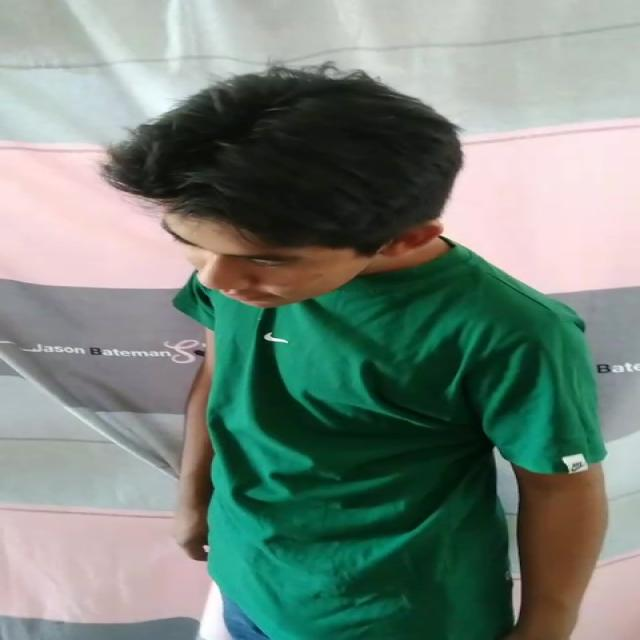9_cabeza_baja: (98, 59, 465, 308)
